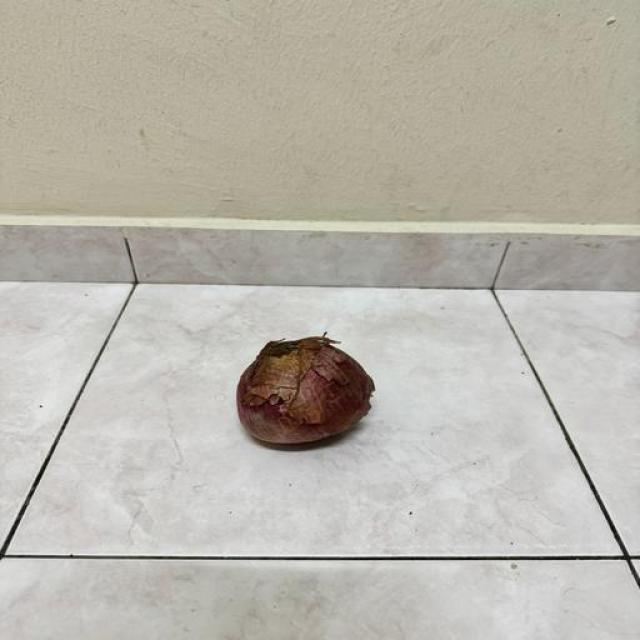organic: (237, 337, 374, 443)
